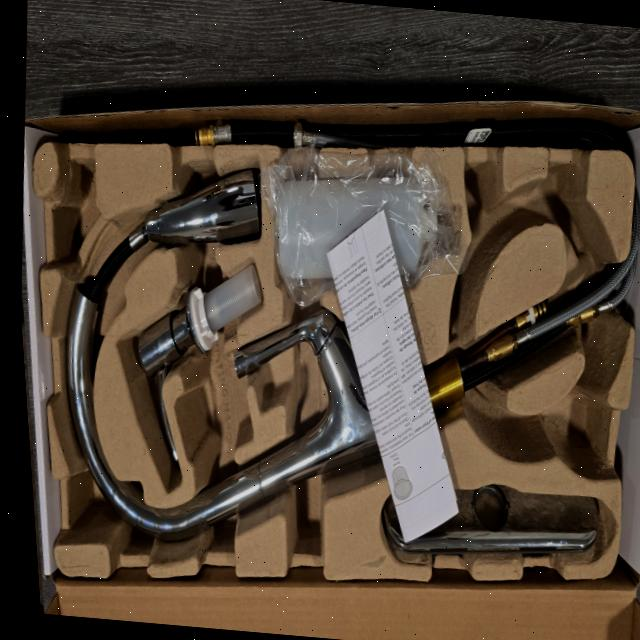1o: (63, 167, 631, 543)
2: (137, 262, 261, 461)
3o: (275, 181, 456, 292)
4o: (382, 482, 598, 555)
5m: (545, 386, 602, 466)
6m: (530, 160, 603, 269)
7m: (452, 153, 527, 297)
8: (326, 205, 460, 547)
